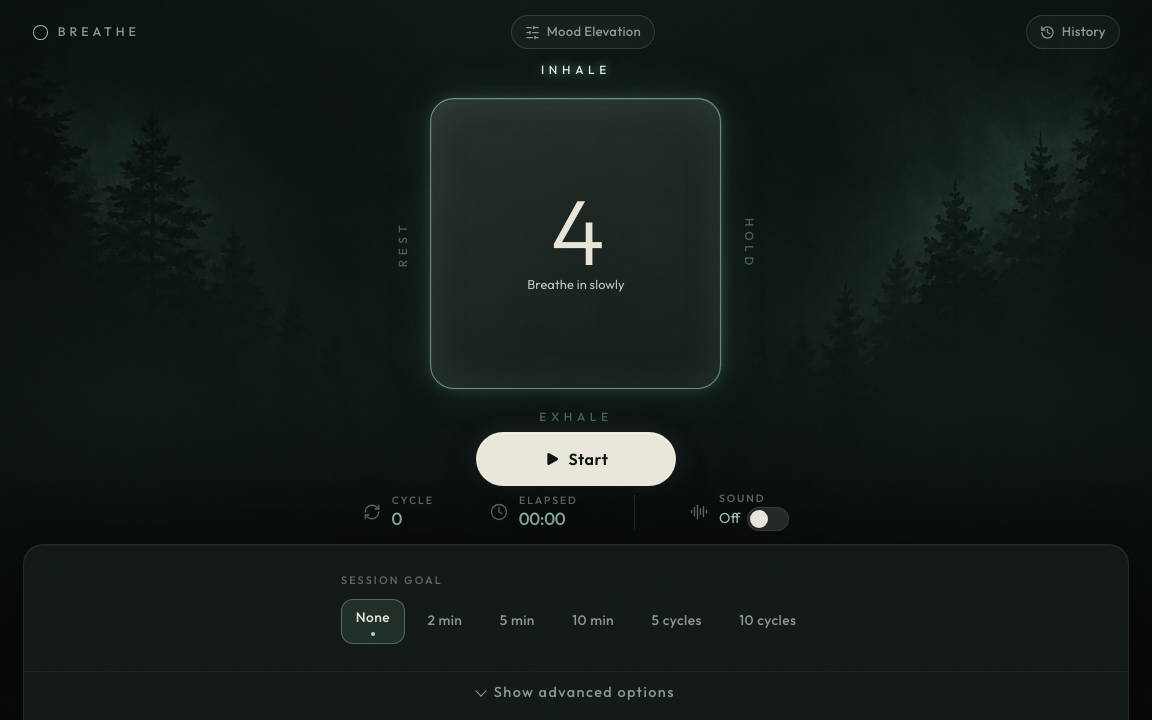
Test case: hint line merge component tests › renders nostril hint text in BreatheApp when Mood Elevation is active and started
// Select Mood Elevation from Protocol Picker
Step 1. Click the button "Mood Elevation" → (583, 32), box [511,15,655,49]
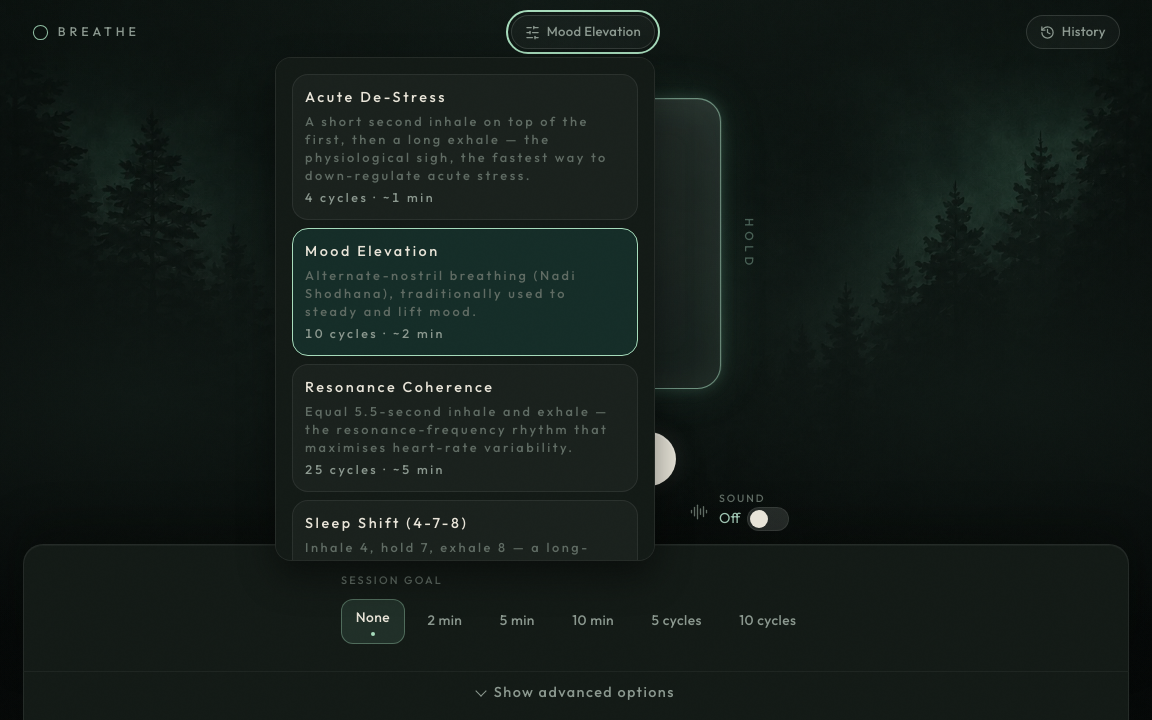
Step 2. Click the button "Mood Elevation" → (465, 292), box [292,228,638,356]
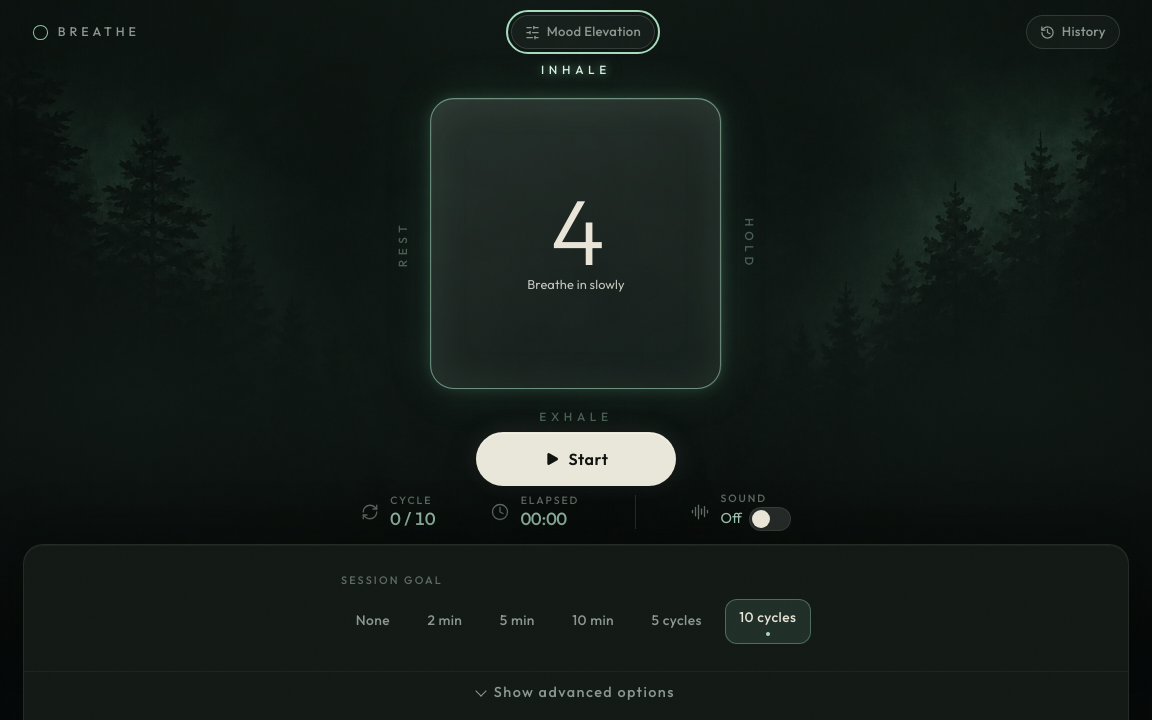
// Start session
Step 3. Click the button "Start" → (576, 459), box [476,432,676,486]
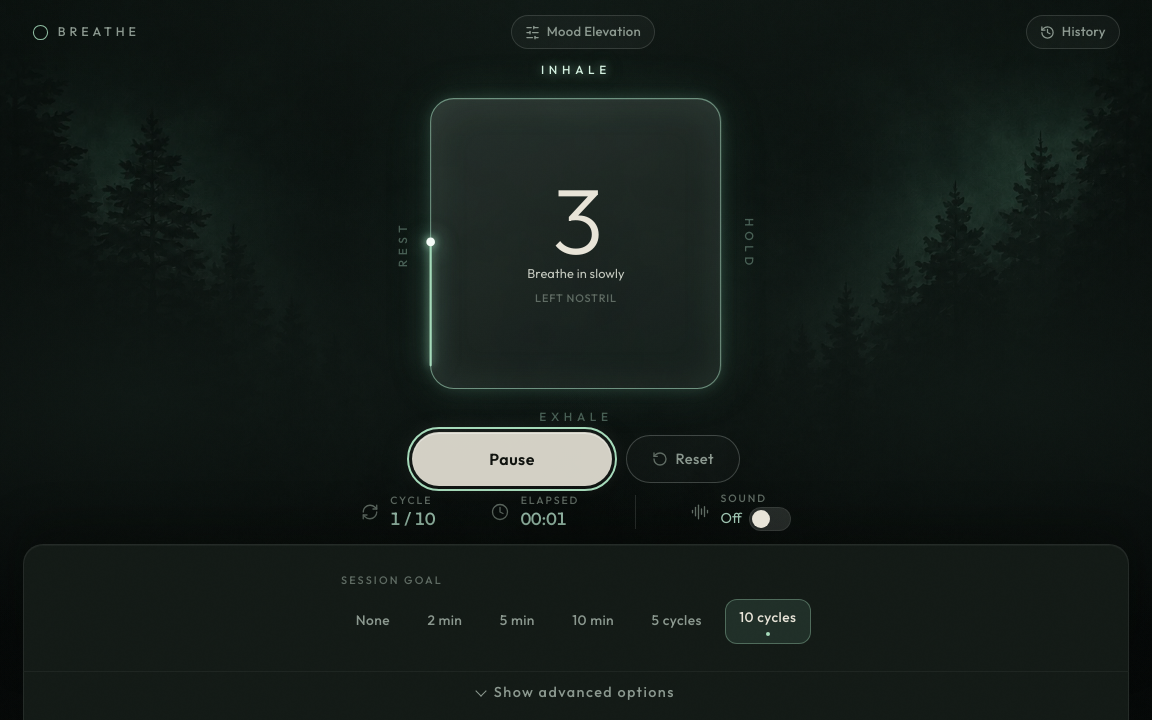
Expected: the text "Left nostril" is shown, [535,290,617,306]
Expected: the text with class "mv-ramp-hint" reads "Left nostril", [535,290,617,304]
